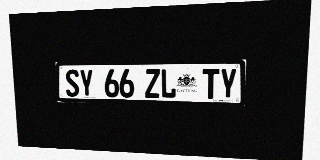6: (119, 69, 134, 98), (104, 69, 119, 97)
L: (160, 69, 176, 98)
S: (65, 69, 80, 97)
T: (202, 69, 219, 99)
Y: (219, 68, 237, 99), (79, 69, 94, 97)
Z: (145, 69, 160, 98)
